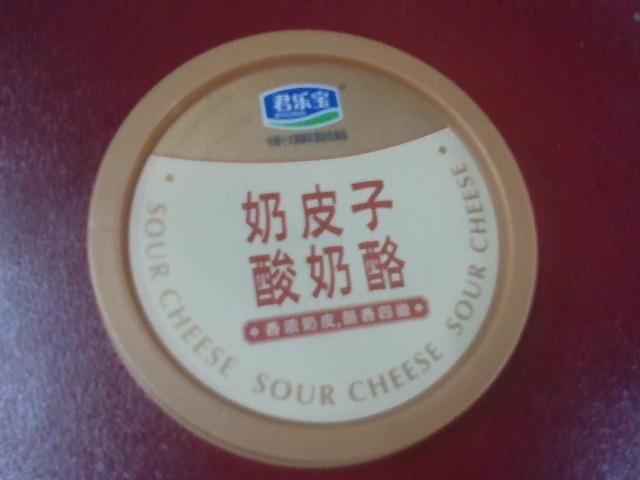lid: (50, 23, 549, 473)
